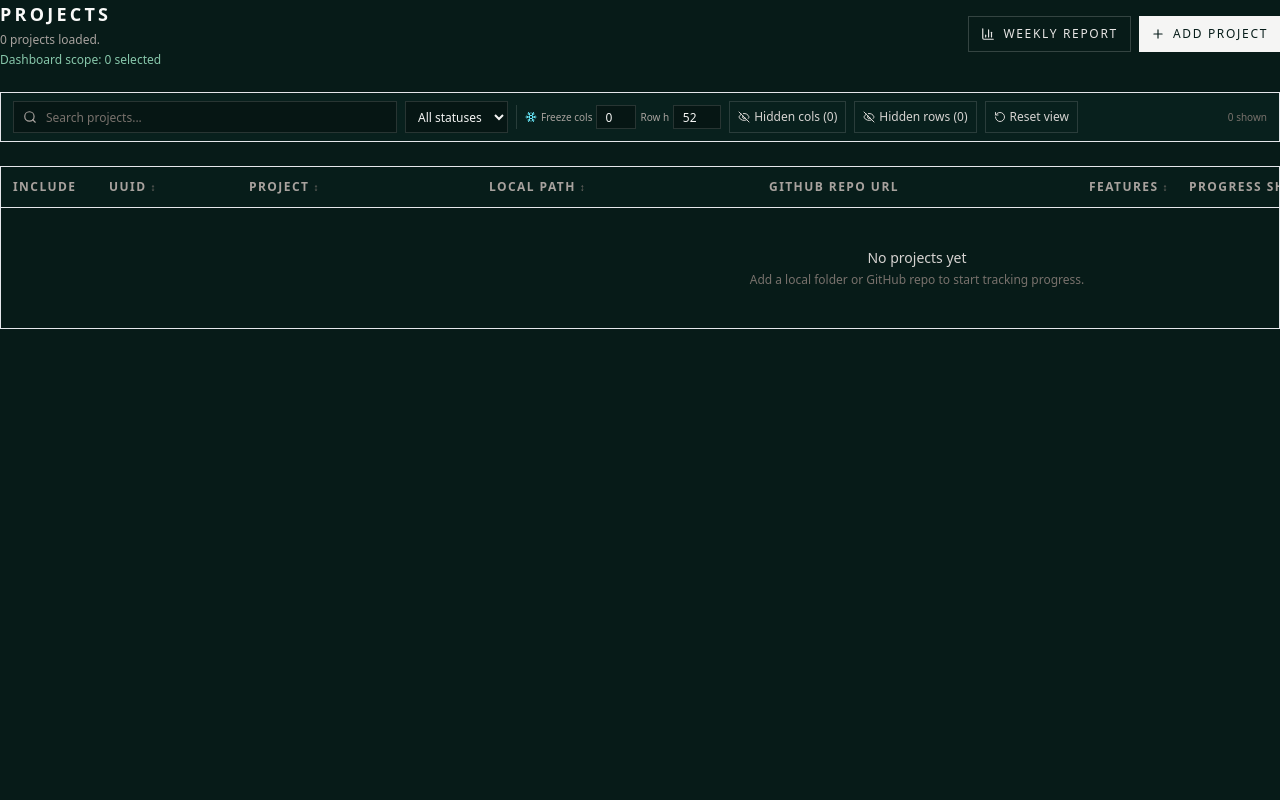
Test: Add Project modal — Finder folder picker › fills the manual input when Browse is used for a single folder
Click the button "Add Project": [1209, 34] box top-left (1139, 16), bottom-right (1279, 52)
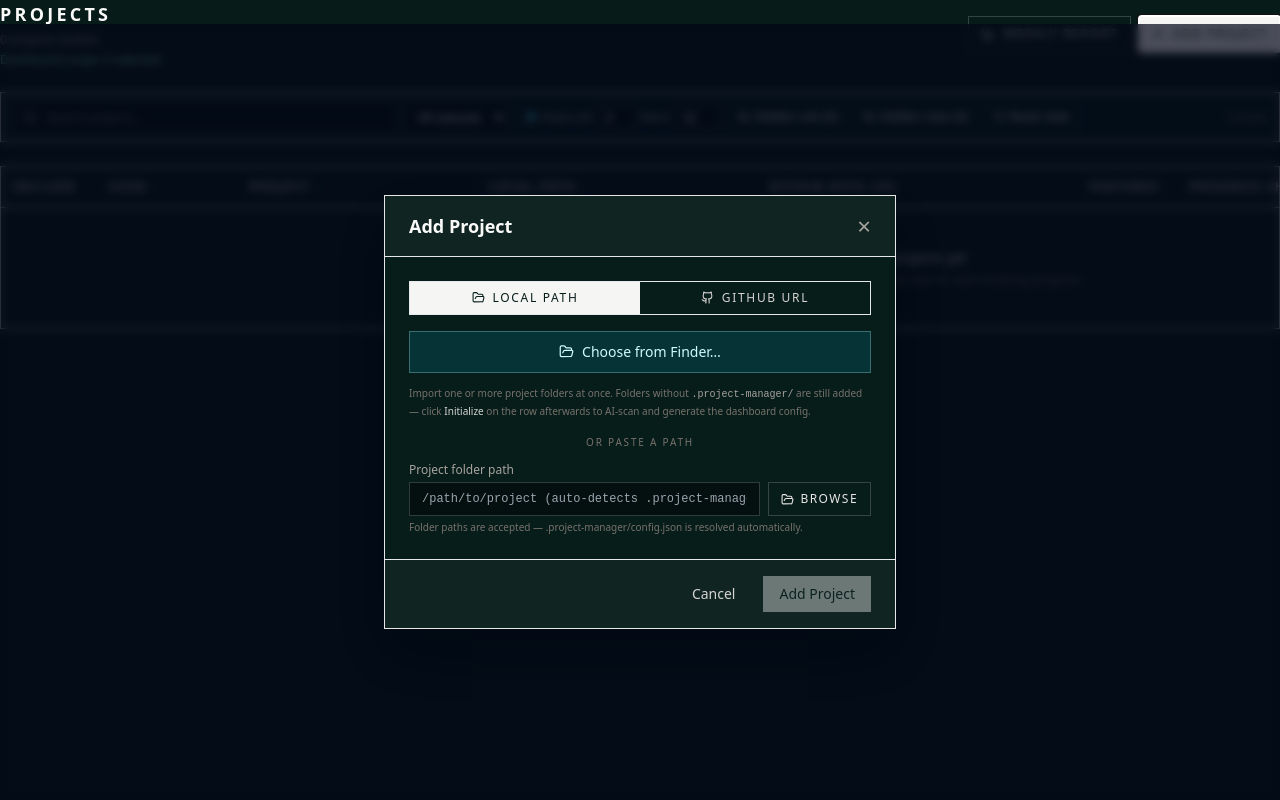
Click the button "Browse": [820, 499] box top-left (768, 482), bottom-right (871, 516)
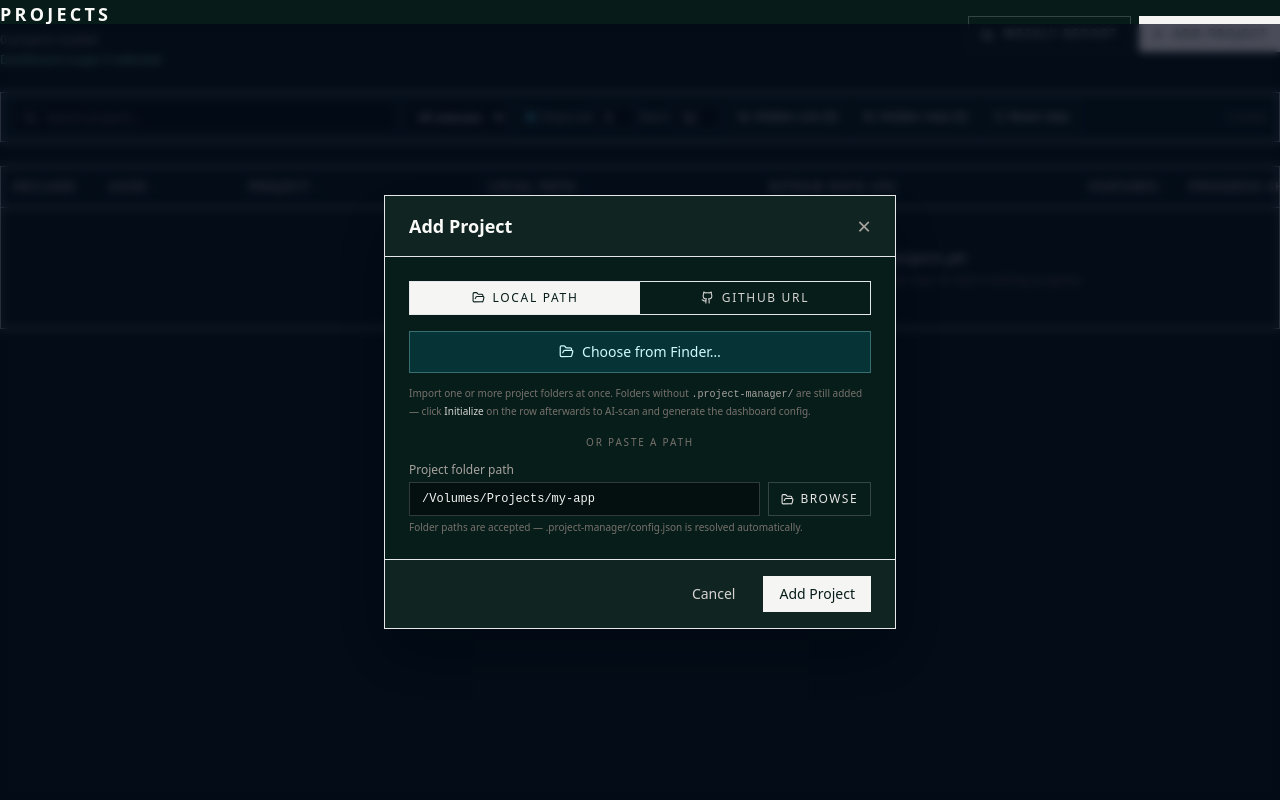
expect the field with placeholder "/path/to/project (auto-detects .project-manager/)" holds "/Volumes/Projects/my-app": met, box top-left (409, 482), bottom-right (760, 516)
